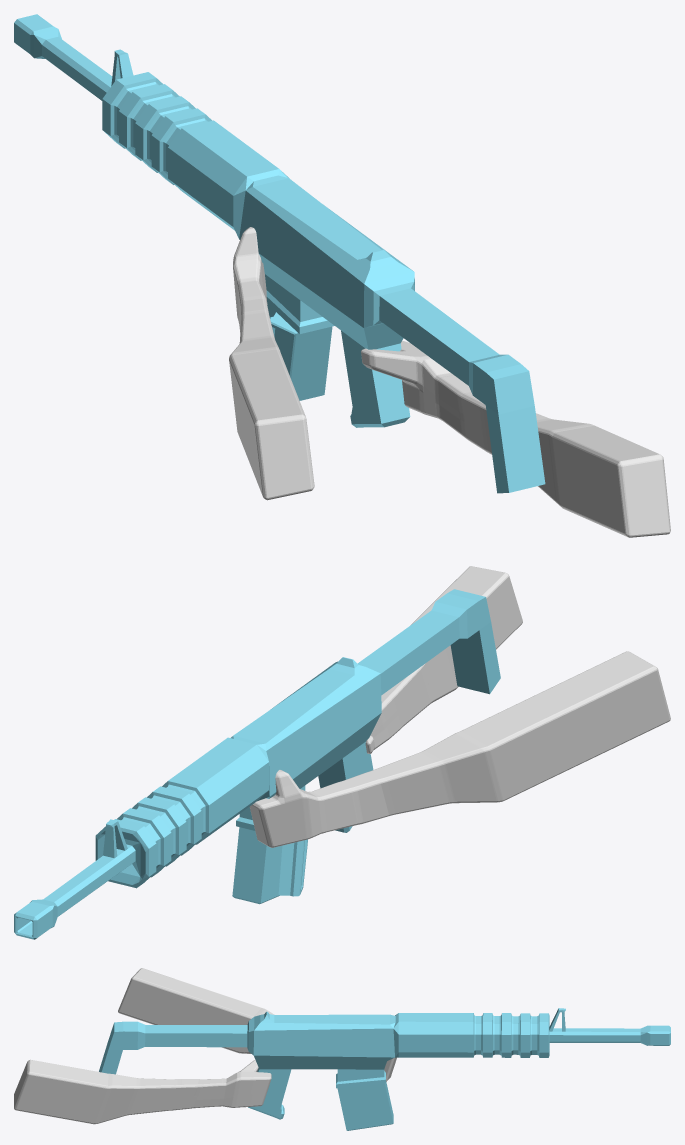
File: gun_v1.glb
3 renders of one model, top to bottom at view 1: azimuth 30°, elevation 25°; view 2: azimuth 150°, elevation 25°; view 3: azimuth 270°, elevation 25°, orthographic. The views are drawn at different scales.
Visible parts, largest first — view 1: gun, arms, hands; view 2: gun, arms, hands; view 3: gun, arms, hands.
Part boxes in pixels (box(x1,y1,x2,y2)): gun: box(14, 14, 545, 493); arms: box(229, 227, 670, 537); hands: box(233, 243, 453, 420); gun: box(14, 589, 500, 939); arms: box(275, 566, 670, 832); hands: box(249, 783, 326, 847); gun: box(99, 1008, 670, 1130); arms: box(14, 968, 274, 1124); hands: box(218, 1057, 396, 1107).
Bounding box in the file's own units: 1.39 × 0.8731 × 4.39.
Materials: 1 (1 with a texture image).
